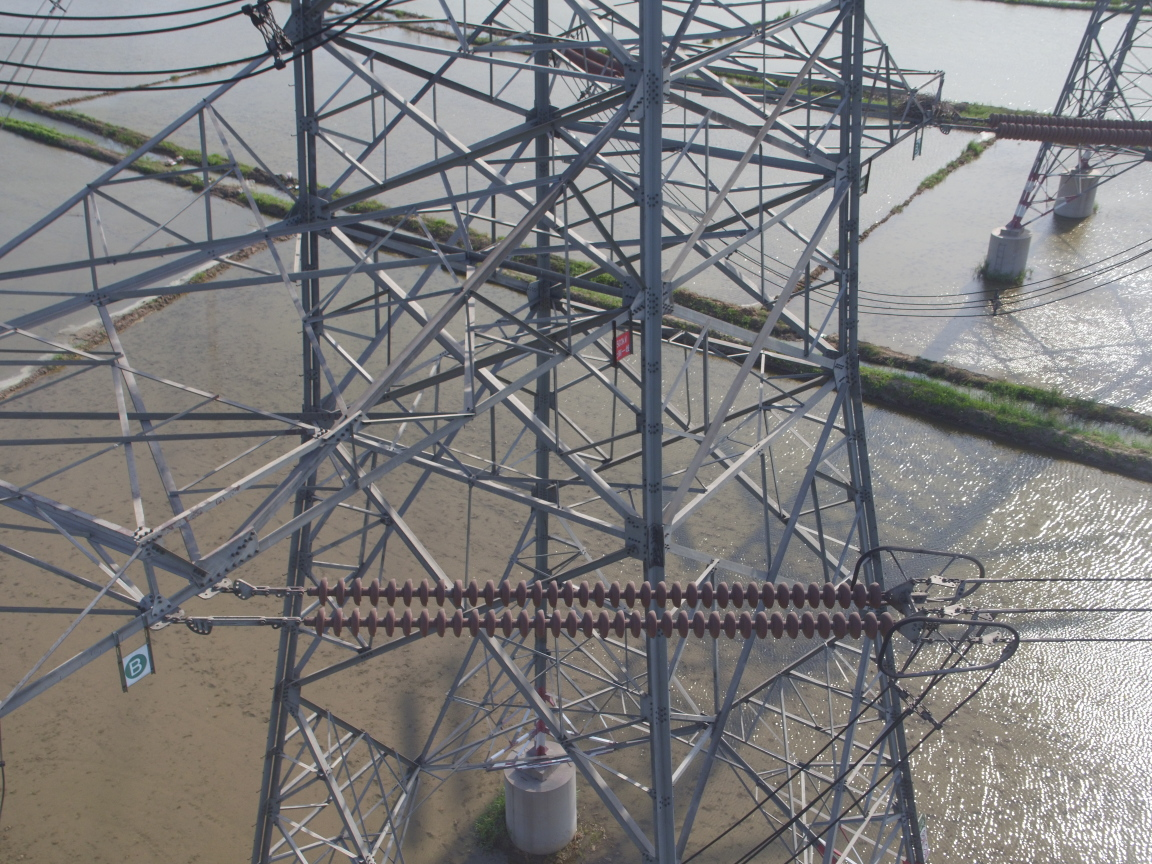insulator: (280, 573, 908, 642)
